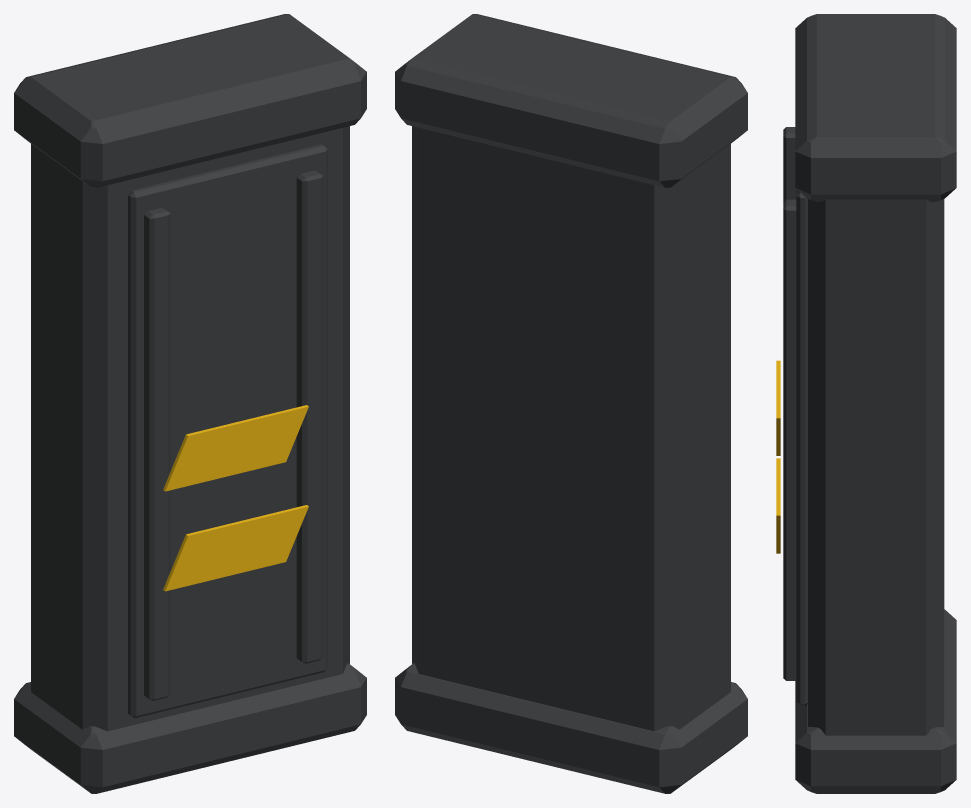
The model's file is 12_ammo_magazine.fbx.
3 views of the same model, side by side, from view 1: azimuth 30°, elevation 25°; view 2: azimuth 150°, elevation 25°; view 3: azimuth 270°, elevation 25° (orthographic). The views are drawn at different scales.
Visible parts, largest first — view 1: 12_ammo_magazine; view 2: 12_ammo_magazine; view 3: 12_ammo_magazine.
Part boxes in pixels (x1,y1,x2,y2): 12_ammo_magazine: (14, 14, 366, 793); 12_ammo_magazine: (395, 14, 747, 793); 12_ammo_magazine: (776, 14, 956, 793).
Size of the model in its own units: 3.48 by 7.8 by 1.94.
